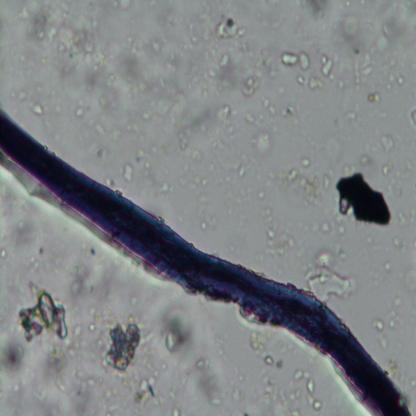Background material: (106, 48, 181, 122), (22, 0, 101, 66), (0, 184, 65, 247), (335, 163, 393, 227), (17, 285, 69, 342), (102, 316, 143, 376), (186, 98, 239, 144), (282, 155, 332, 203), (366, 4, 416, 50), (66, 259, 110, 306), (157, 303, 193, 358), (306, 267, 357, 305), (182, 1, 218, 51), (192, 352, 224, 405), (86, 62, 118, 112), (237, 40, 280, 76), (66, 365, 98, 410), (133, 369, 165, 410), (250, 329, 282, 369), (292, 368, 322, 410), (213, 146, 249, 179), (0, 333, 25, 379), (178, 126, 205, 167), (264, 223, 295, 258), (351, 45, 374, 88), (376, 347, 404, 381), (215, 13, 247, 42), (42, 343, 67, 380), (337, 14, 362, 48), (282, 45, 312, 71), (384, 59, 406, 93), (391, 289, 408, 332), (303, 1, 331, 25), (64, 325, 81, 356), (186, 173, 211, 194), (320, 53, 337, 81), (254, 130, 272, 156), (375, 318, 389, 350), (242, 73, 260, 96), (121, 159, 137, 184), (315, 249, 332, 271), (310, 218, 330, 234), (261, 97, 277, 117), (307, 74, 324, 91), (397, 206, 409, 230), (112, 0, 135, 12), (216, 50, 231, 68), (382, 133, 395, 152), (94, 122, 106, 140), (29, 100, 44, 114), (110, 126, 126, 139), (282, 102, 294, 119), (159, 183, 173, 197), (369, 90, 381, 106), (151, 38, 161, 56), (382, 258, 392, 274), (198, 218, 208, 232)
Cotton: (0, 107, 411, 414)
